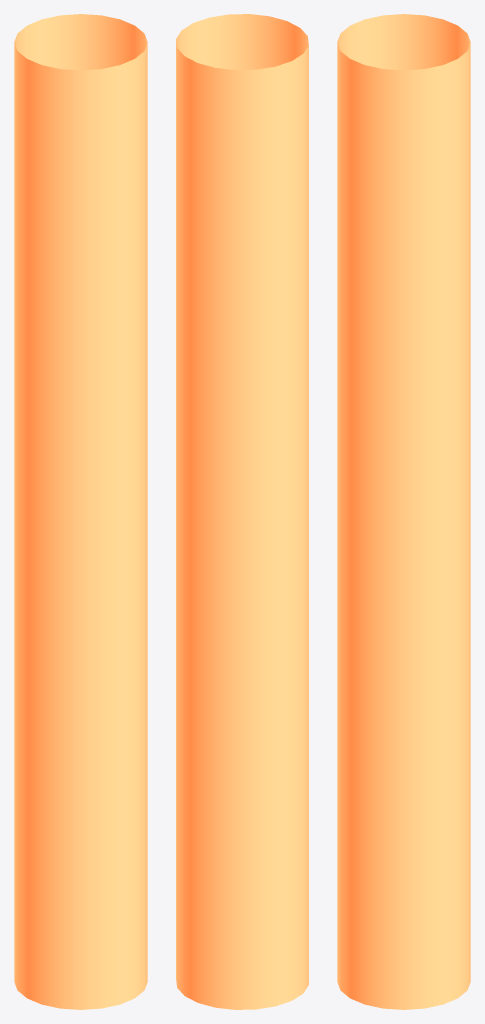
Rendered from SM_Smallpipe6.fbx.
The picture shows the model from 3 angles, left to right: view 1: azimuth 90°, elevation 25°; view 2: azimuth 210°, elevation 25°; view 3: azimuth 270°, elevation 25°; orthographic projection.
Parts seen in each view (by area): view 1: SM_Smallpipe6_LOD0; view 2: SM_Smallpipe6_LOD0; view 3: SM_Smallpipe6_LOD0.
Boxes of the visible parts, x1,y1,x2,y2 form: SM_Smallpipe6_LOD0: [14, 14, 147, 1009]; SM_Smallpipe6_LOD0: [176, 14, 308, 1009]; SM_Smallpipe6_LOD0: [337, 14, 470, 1009].
Bounding box in the file's own units: 25.77 × 25.77 × 200.
